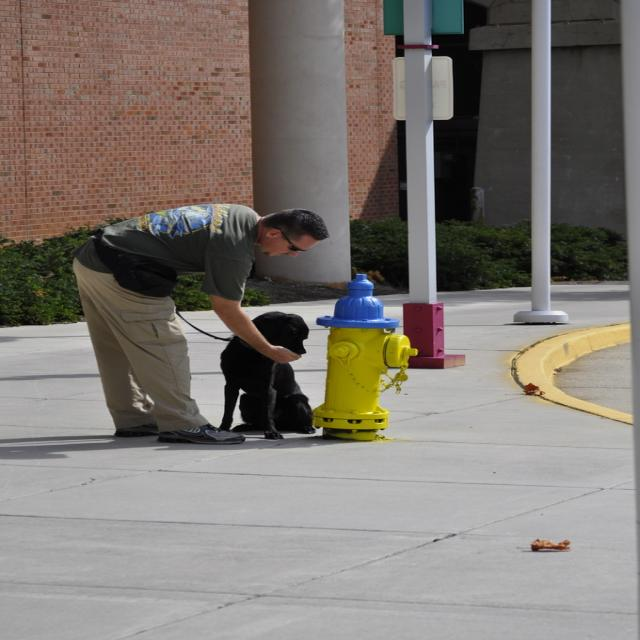fire_hydrant: (314, 273, 418, 444)
